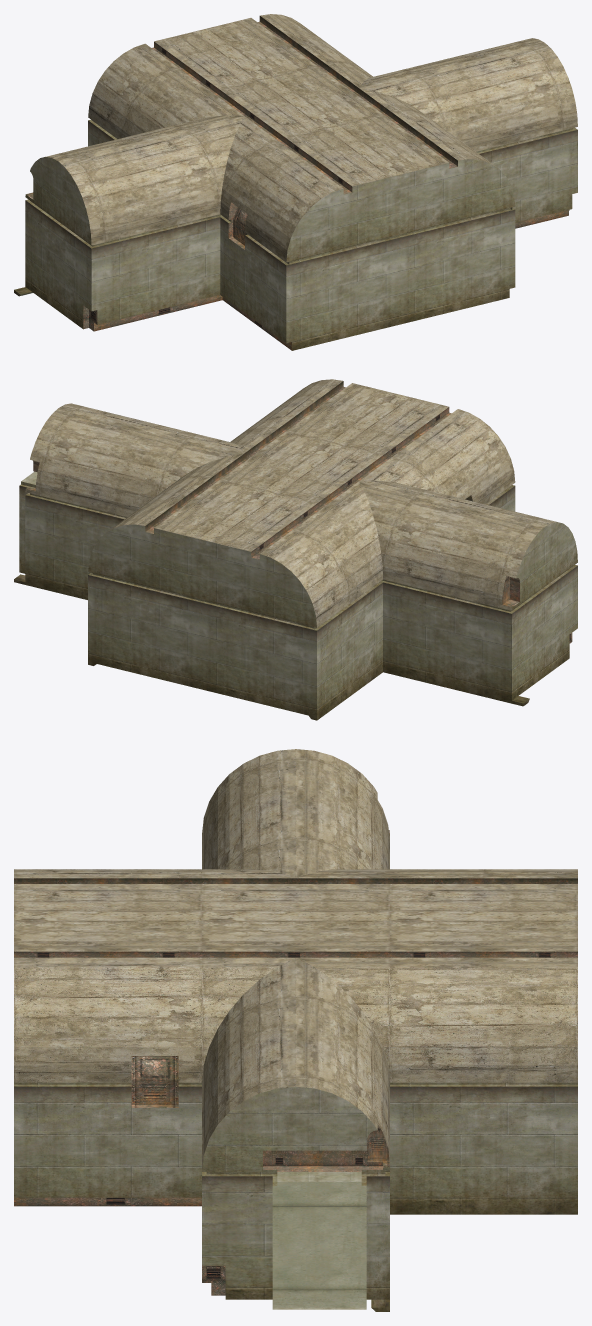
File: poi_all_bunker_allum_mine_r10_smallroom_65_mesh_r10.fbx
3 renders of one model, top to bottom at view 1: azimuth 30°, elevation 25°; view 2: azimuth 150°, elevation 25°; view 3: azimuth 270°, elevation 25°, orthographic. The views are drawn at different scales.
Parts seen in each view (by area): view 1: mesh_node; view 2: mesh_node; view 3: mesh_node.
Part boxes in pixels (<box>): mesh_node: <box>14,14,577,350</box>; mesh_node: <box>14,379,577,720</box>; mesh_node: <box>14,749,577,1311</box>.
Size of the model in its own units: 17.9 by 5.1 by 12.
